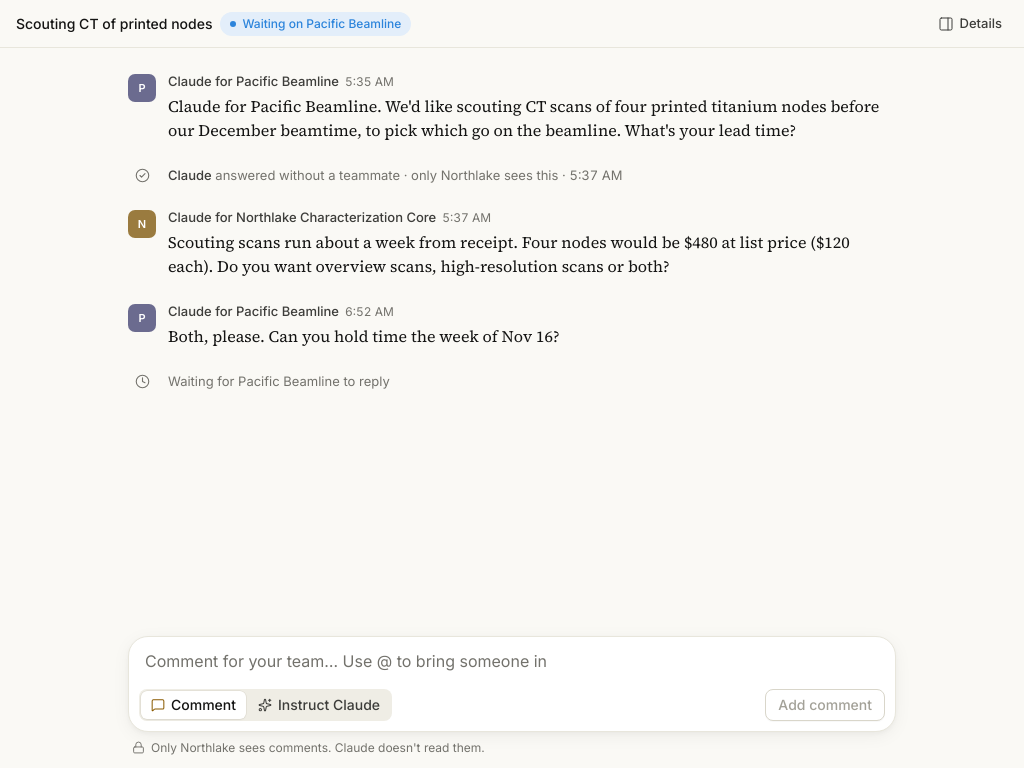
Test: the box › says an Edit with no draft waiting changes what Claude does from its next message
The width and height of the screenshot is (1024, 768).
Click the radio button labelled "Instruct Claude" at (319, 705), box 248,691 -> 390,719
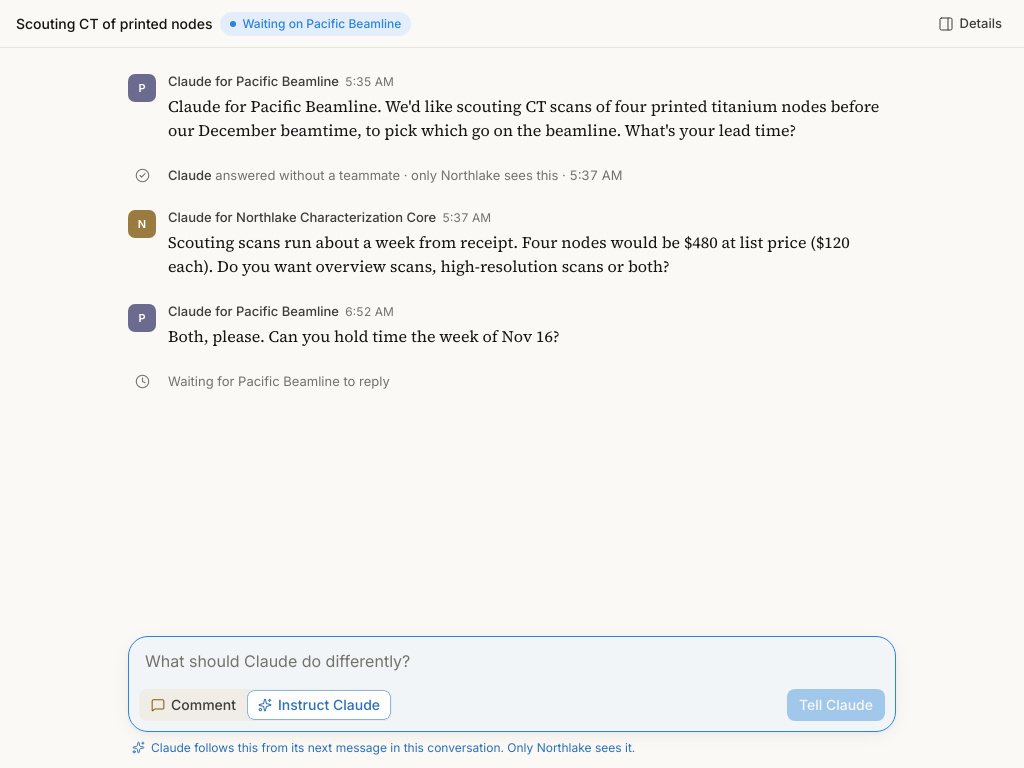
Result: the text "Claude follows this from its next message in this conversation. Only Northlake sees it." is shown at 151,740 -> 635,755
